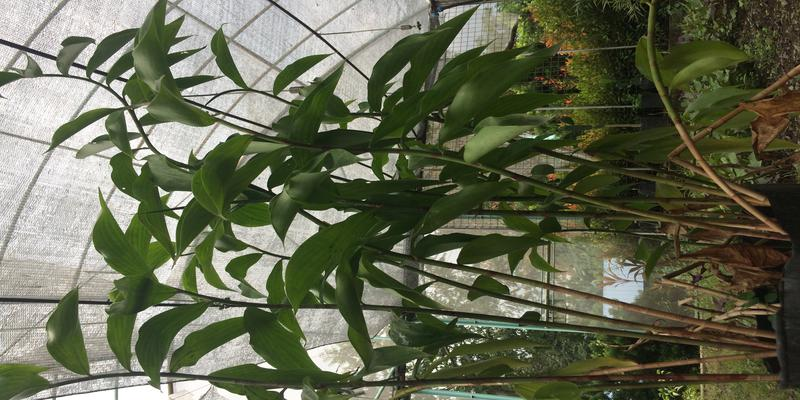Insulin: (85, 87, 706, 387)
